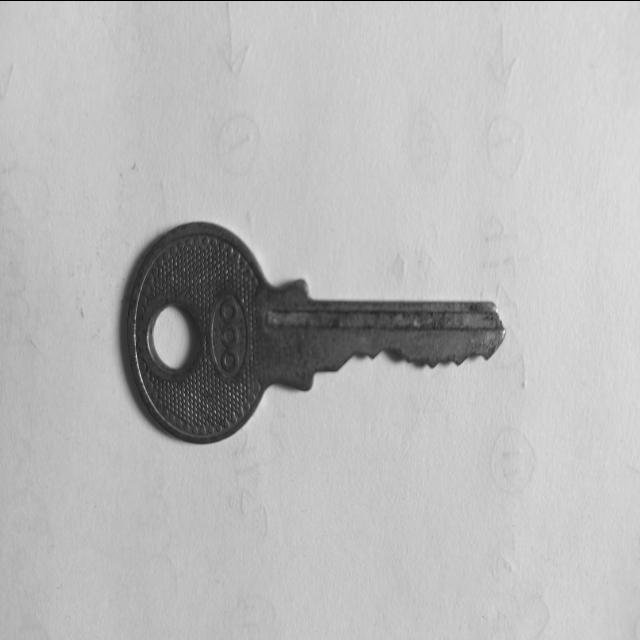key: (127, 222, 505, 443)
